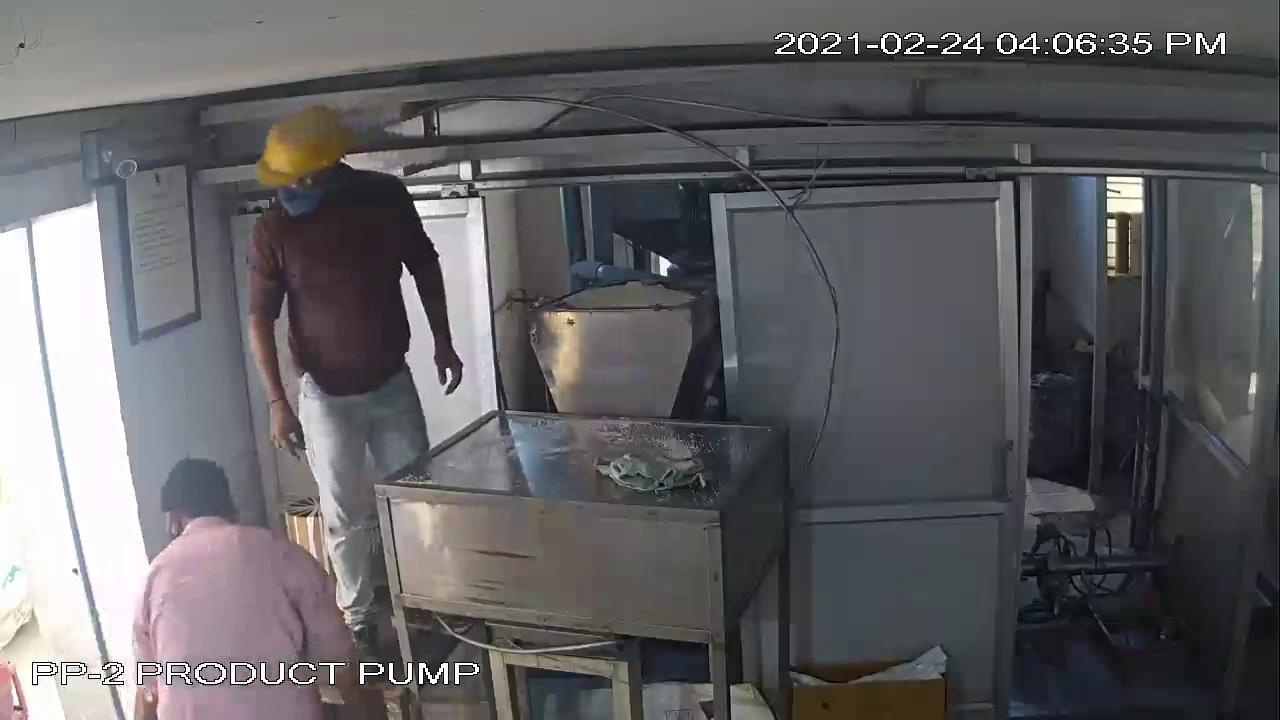helmet: (249, 98, 357, 206)
